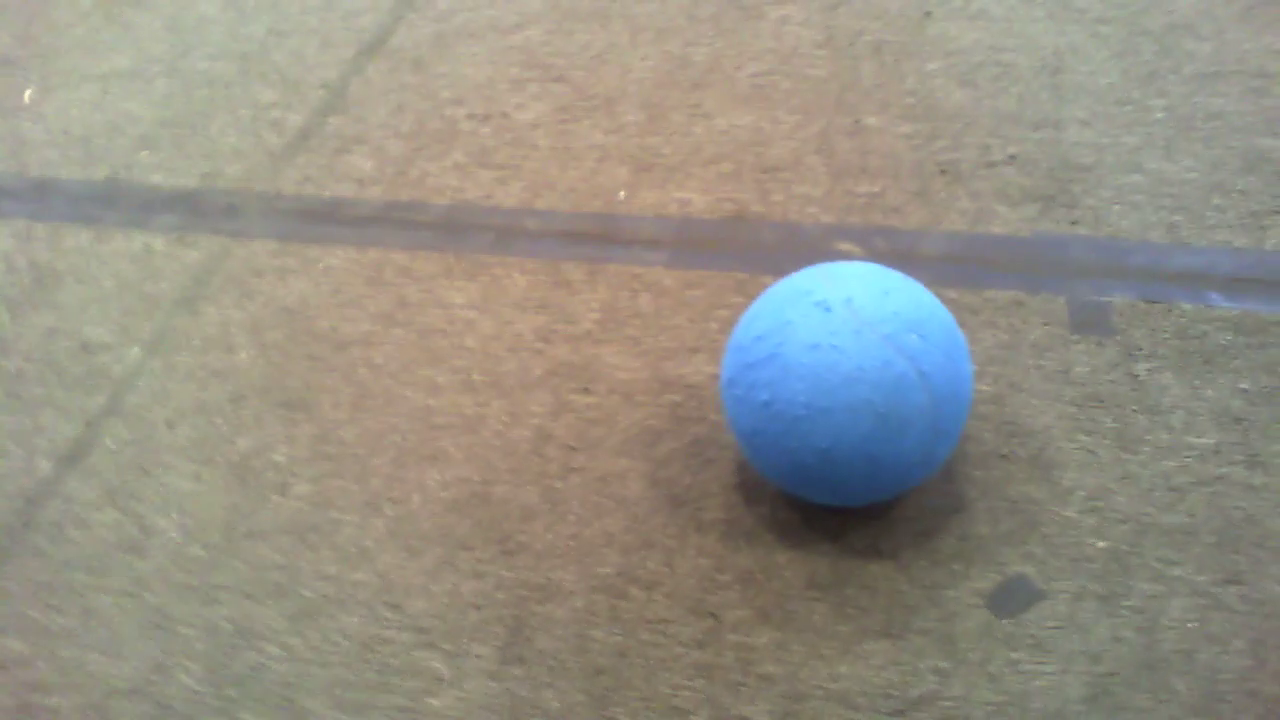blue_cargo: (711, 251, 980, 515)
